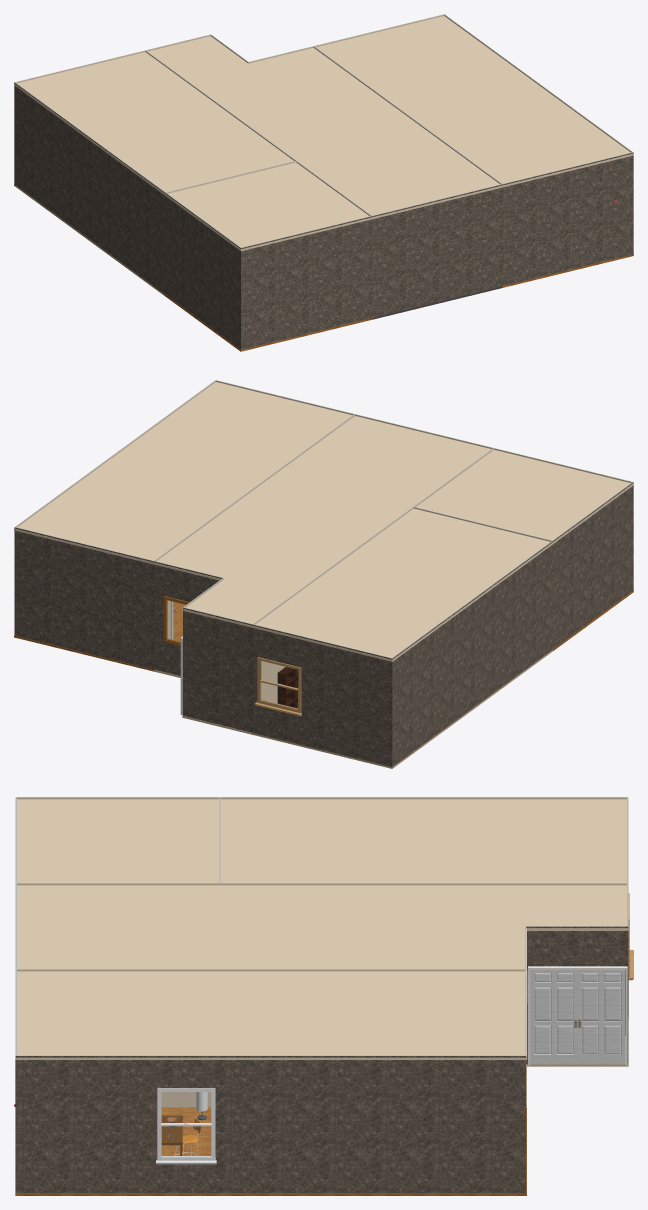
The model's file is ProcTHOR-Train-17.glb.
3 views of the same model, one above another, from view 1: azimuth 30°, elevation 25°; view 2: azimuth 150°, elevation 25°; view 3: azimuth 270°, elevation 25° (orthographic). The views are drawn at different scales.
Parts seen in each view (by area): view 1: Ceiling#room|6|c, Ceiling#room|4|c, Ceiling#room|8|c, WallInside#wall|exterior|11.75|0.00|11.75|7.83, WallInside#wall|exterior|3.92|11.75|7.83|11.75, WallInside#wall|exterior|0.00|11.75|3.92|11.75, WallInside#wall|exterior|7.83|11.75|11.75|11.75, Ceiling#room|5|c, Ceiling#room|9|c, WallInside#wall|exterior|11.75|7.83|11.75|11.75, Floor#room|5|f; view 2: Ceiling#room|6|c, Ceiling#room|4|c, Ceiling#room|8|c, WallInside#wall|exterior|11.75|0.00|11.75|7.83, WallInside#wall|exterior|0.00|1.96|3.92|1.96, WallInside#wall|exterior|7.83|0.00|11.75|0.00, Ceiling#room|9|c, Ceiling#room|5|c, WallInside#wall|exterior|11.75|7.83|11.75|11.75, WallInside#wall|exterior|5.87|0.00|7.83|0.00, WallInside#wall|exterior|3.92|1.96|5.87|1.96, WallInside#wall|4|7.83|0.00|7.83|7.83 (+4 smaller); view 3: WallInside#wall|exterior|0.00|1.96|0.00|11.75, Ceiling#room|6|c, Ceiling#room|4|c, Ceiling#room|8|c, Ceiling#room|9|c, Ceiling#room|5|c, Doorway_Door_2b, Doorway_Door_2a, WallInside#wall|exterior|5.87|0.00|5.87|1.96, Floor#room|6|f, Window_Hung_44x60, WallInside#wall|6|3.92|7.83|3.92|11.75 (+7 smaller).
Part boxes in pixels (x1,y1,x2,y2): Ceiling#room|6|c: (315,16,633,187); Ceiling#room|4|c: (14,52,294,195); Ceiling#room|8|c: (148,36,425,161); WallInside#wall|exterior|11.75|0.00|11.75|7.83: (14,82,165,293); WallInside#wall|exterior|3.92|11.75|7.83|11.75: (371,184,502,317); WallInside#wall|exterior|0.00|11.75|3.92|11.75: (502,152,633,285); WallInside#wall|exterior|7.83|11.75|11.75|11.75: (241,216,371,349); Ceiling#room|5|c: (164,162,372,251); Ceiling#room|9|c: (296,130,502,218); WallInside#wall|exterior|11.75|7.83|11.75|11.75: (165,193,240,349); Floor#room|5|f: (164,294,372,351); Ceiling#room|6|c: (14,382,352,564); Ceiling#room|4|c: (252,508,553,661); Ceiling#room|8|c: (154,474,411,627); WallInside#wall|exterior|11.75|0.00|11.75|7.83: (392,541,552,766); WallInside#wall|exterior|0.00|1.96|3.92|1.96: (14,527,154,669); WallInside#wall|exterior|7.83|0.00|11.75|0.00: (253,624,392,766); Ceiling#room|9|c: (275,416,491,507); Ceiling#room|5|c: (416,450,633,543); WallInside#wall|exterior|11.75|7.83|11.75|11.75: (553,482,633,648); WallInside#wall|exterior|5.87|0.00|7.83|0.00: (183,607,252,732); WallInside#wall|exterior|3.92|1.96|5.87|1.96: (153,561,223,675); WallInside#wall|4|7.83|0.00|7.83|7.83: (253,507,413,703); WallInside#wall|exterior|0.00|1.96|0.00|11.75: (15,1055,526,1193); Ceiling#room|6|c: (15,970,526,1059); Ceiling#room|4|c: (219,799,628,885); Ceiling#room|8|c: (219,885,628,971); Ceiling#room|9|c: (15,885,220,971); Ceiling#room|5|c: (15,799,221,885); Doorway_Door_2b: (530,970,577,1064); Doorway_Door_2a: (578,970,625,1064); WallInside#wall|exterior|5.87|0.00|5.87|1.96: (526,926,628,1064); Floor#room|6|f: (15,1107,526,1195); Window_Hung_44x60: (156,1088,216,1164); WallInside#wall|6|3.92|7.83|3.92|11.75: (17,969,220,1107).
Size of what is drawn, in the model's own units: 11.89 by 2.97 by 11.91.
Materials: 414 (159 with a texture image).
